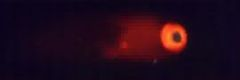keyhole: (171, 31, 183, 44)
